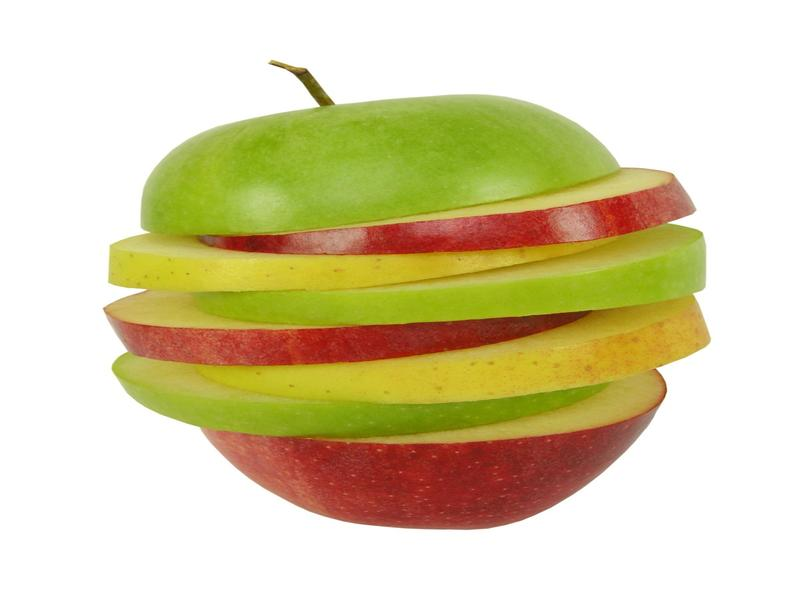apple: (106, 45, 737, 533)
